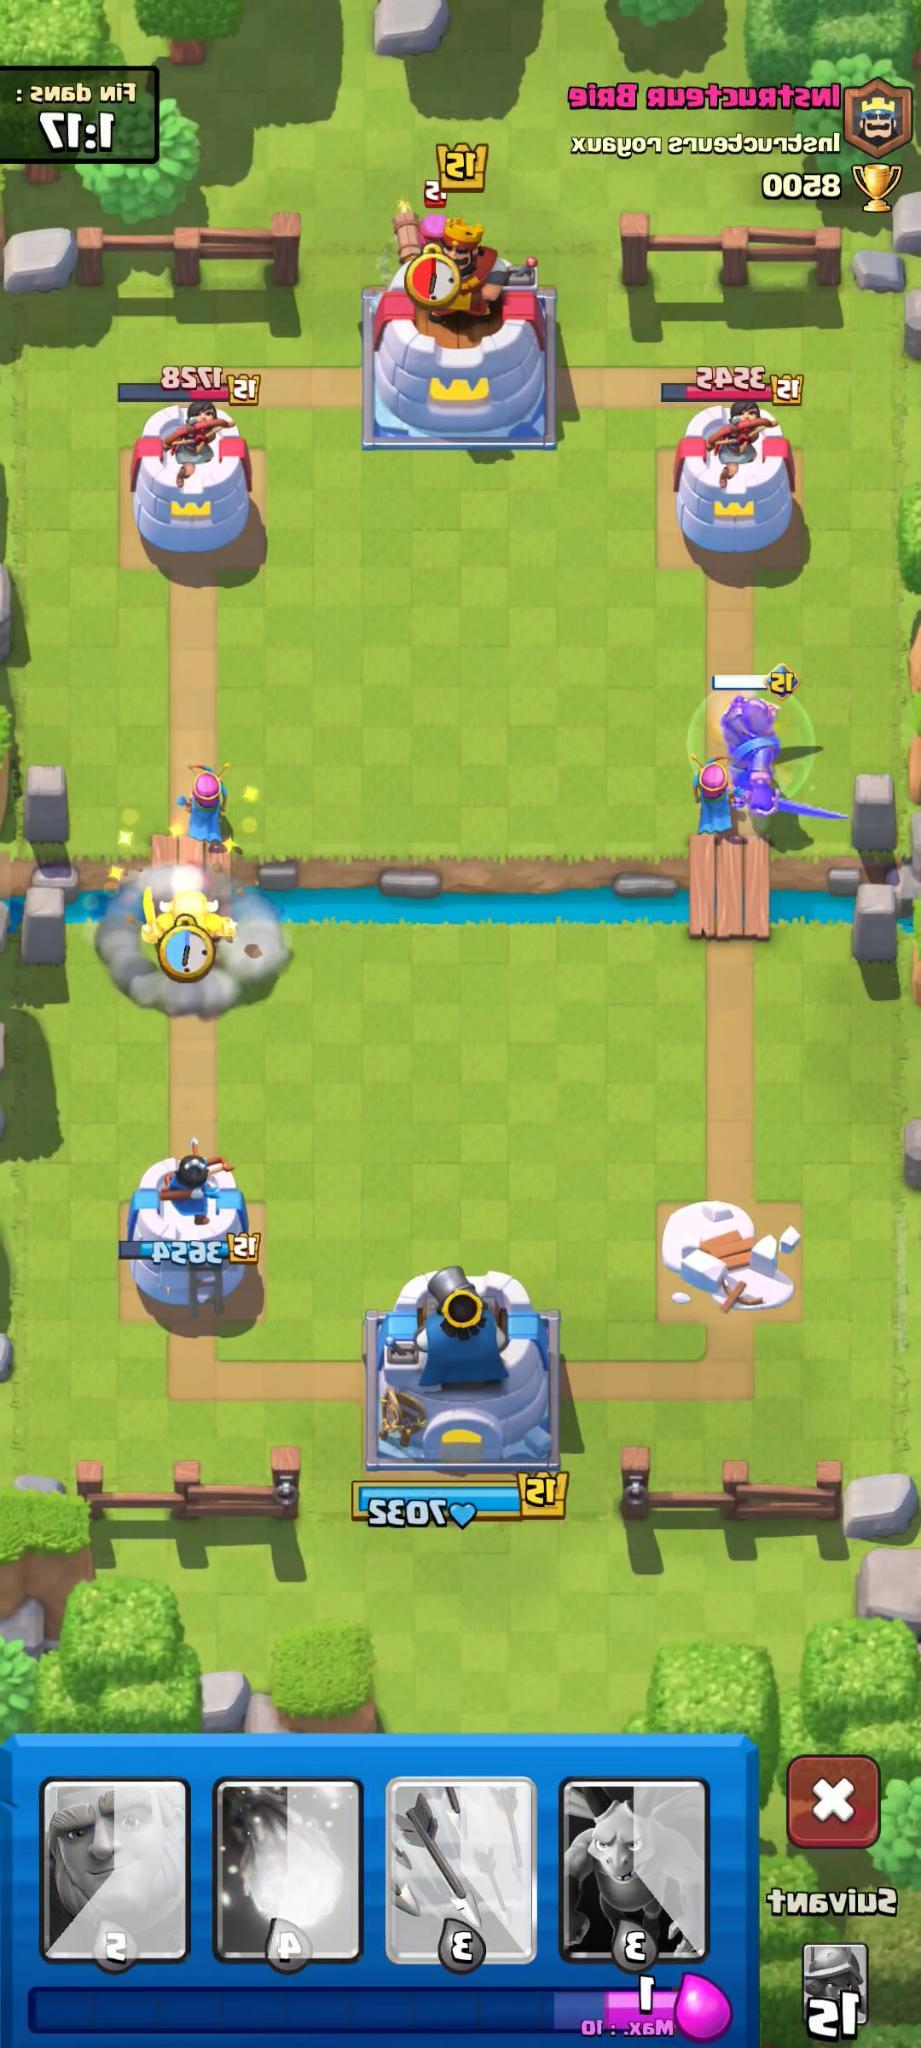player_archers: (176, 760, 241, 858), (684, 750, 743, 846)
player_evo_knight: (705, 672, 846, 836)
